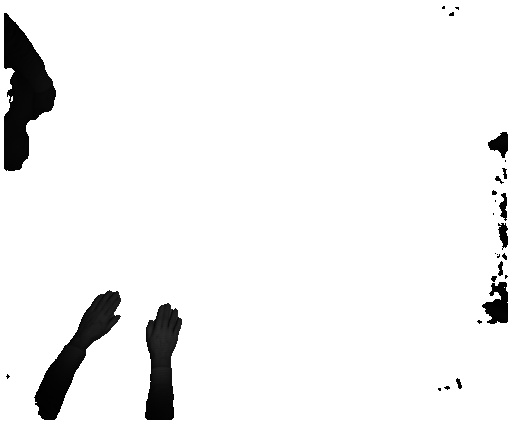hand: (78, 288, 127, 344), (144, 304, 183, 362)
